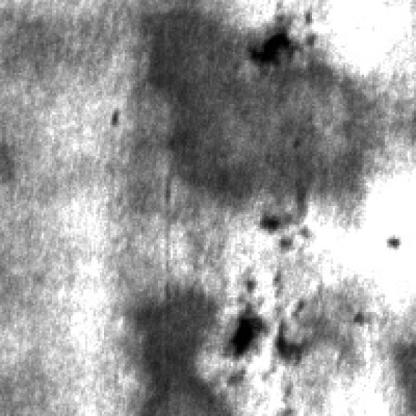inclusion: (226, 308, 300, 370), (248, 19, 314, 75)
patches: (143, 17, 389, 208), (133, 295, 233, 416)
